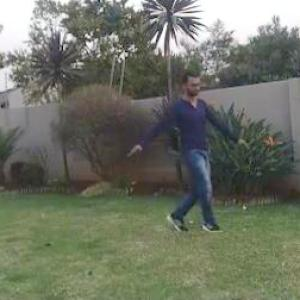land: (108, 44, 242, 263)
